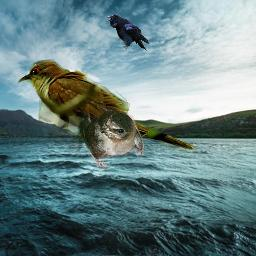Crow: (106, 14, 149, 51)
Cuckoo: (18, 59, 197, 152)
Swallow: (70, 105, 144, 172)
